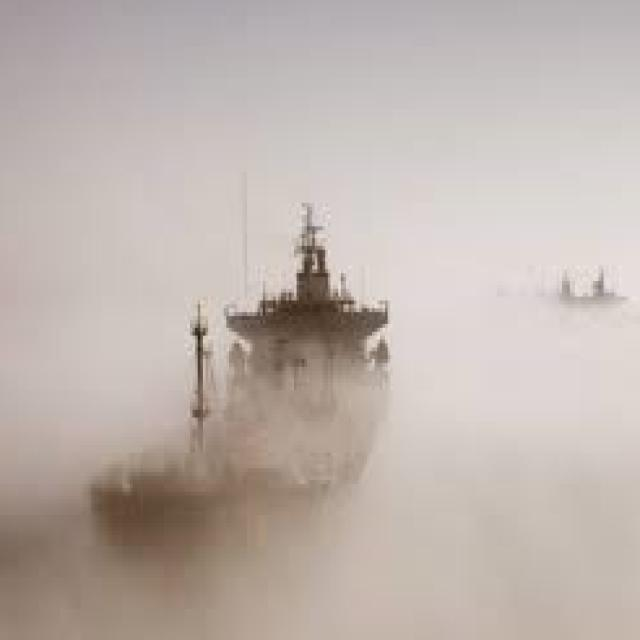cargoship: (96, 206, 402, 595), (492, 256, 624, 330)
